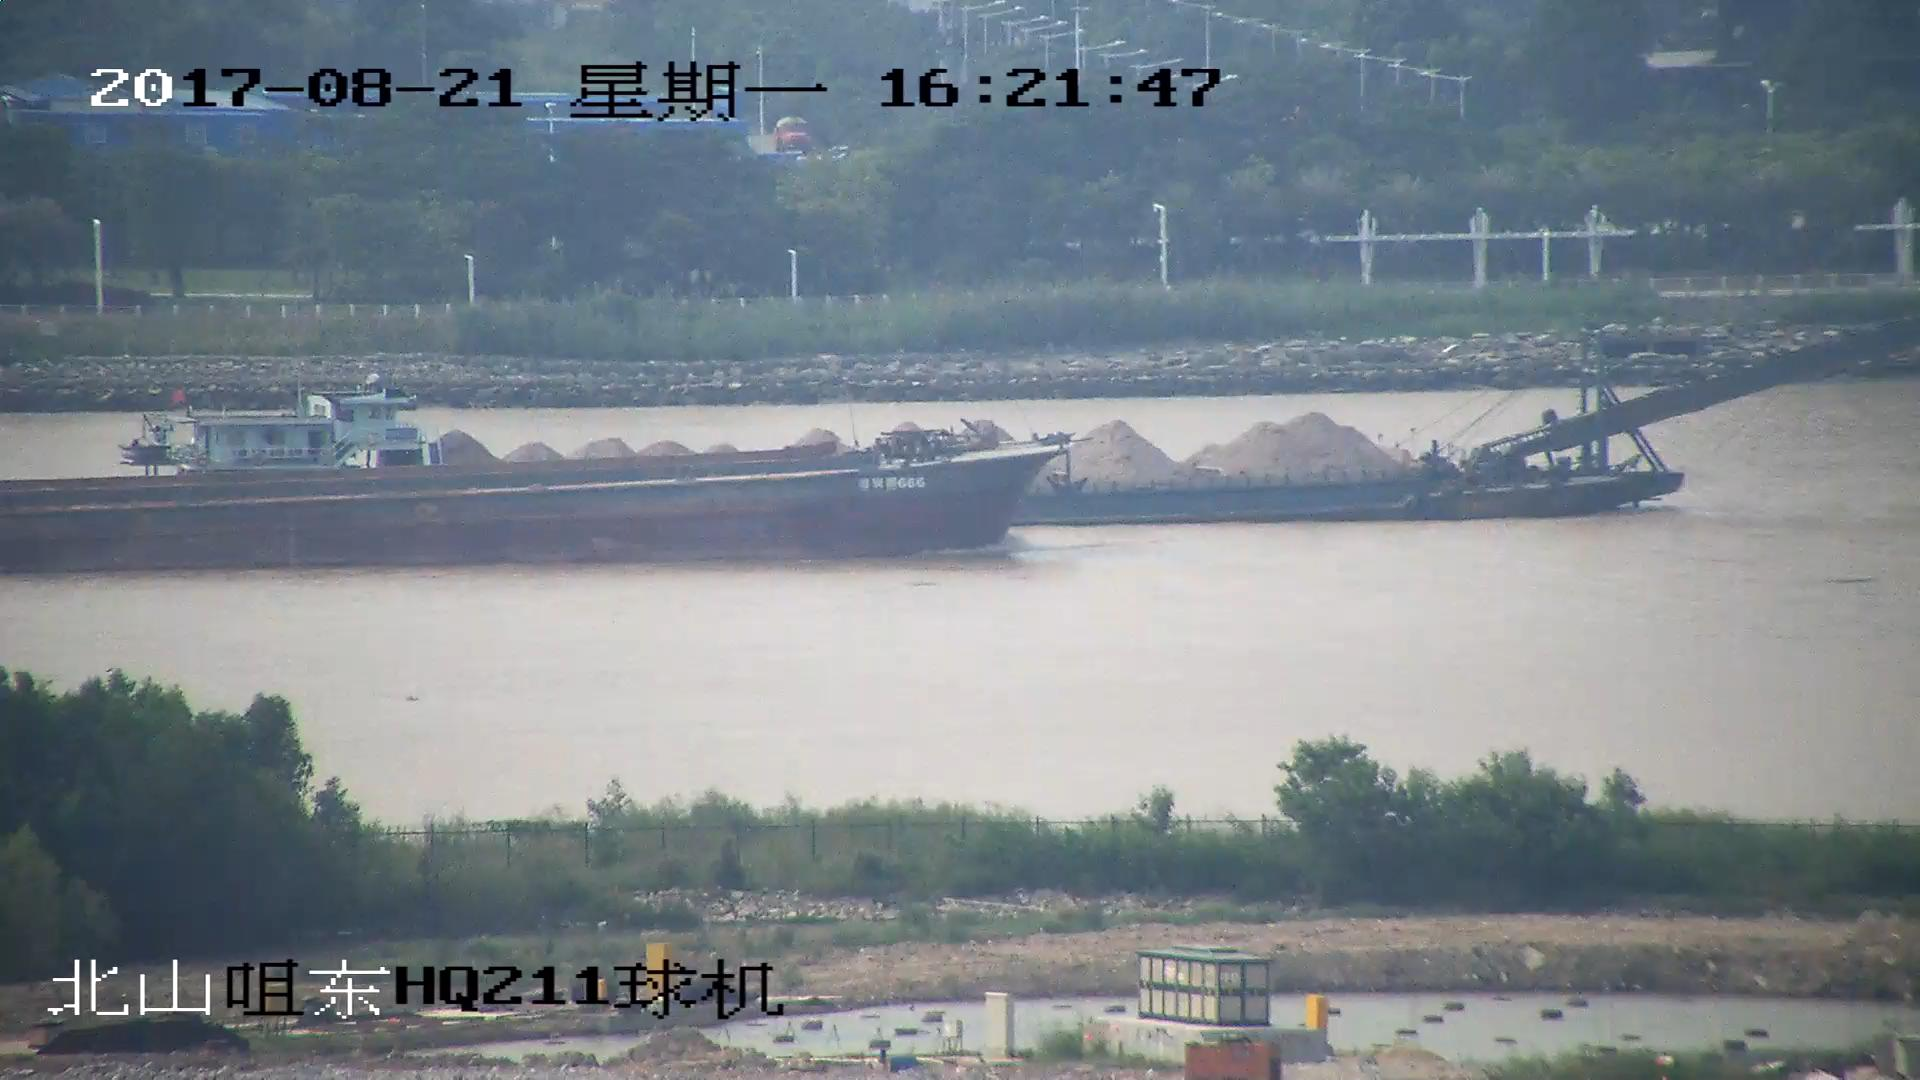bulk cargo carrier: (1, 433, 1072, 582)
ore carrier: (134, 316, 1920, 525)
